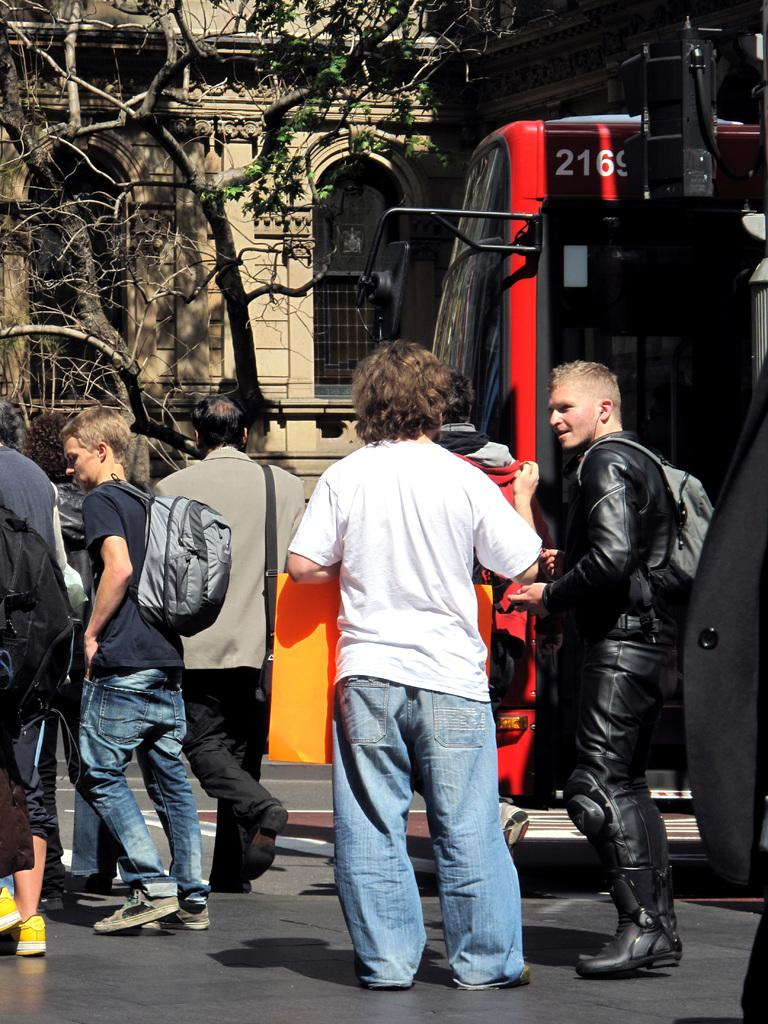Luggage-and-bags: (577, 435, 716, 599), (0, 495, 79, 753), (128, 499, 234, 641)
